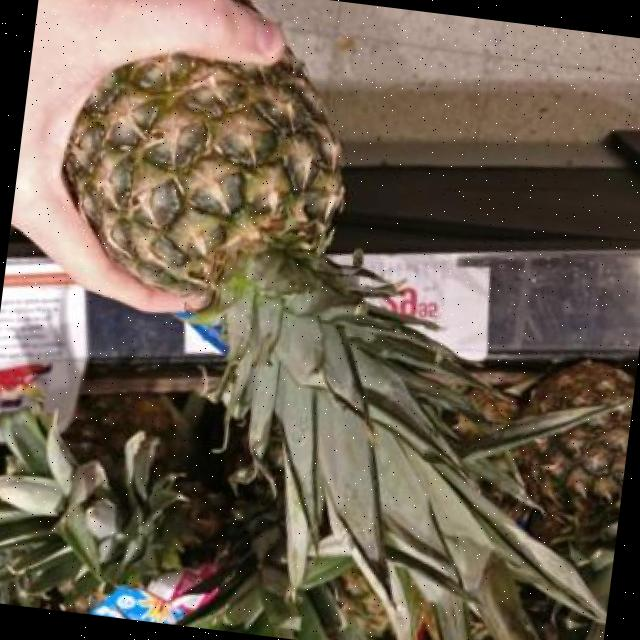pineapple: (67, 54, 606, 640)
